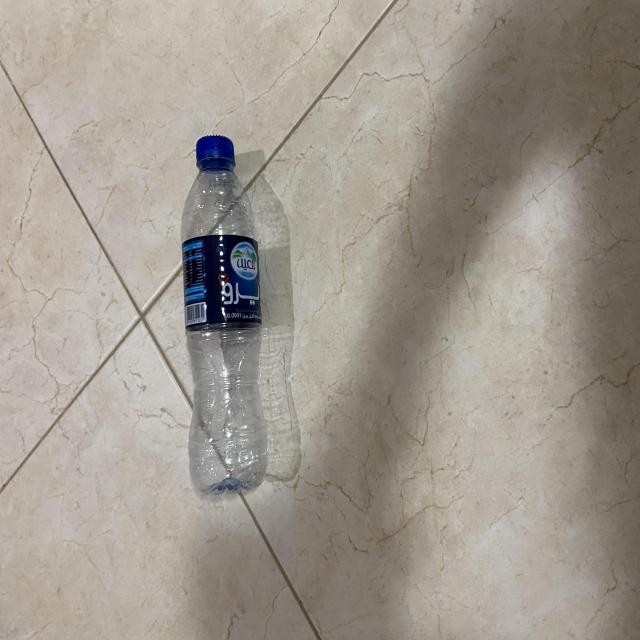bottle: (175, 126, 280, 500)
